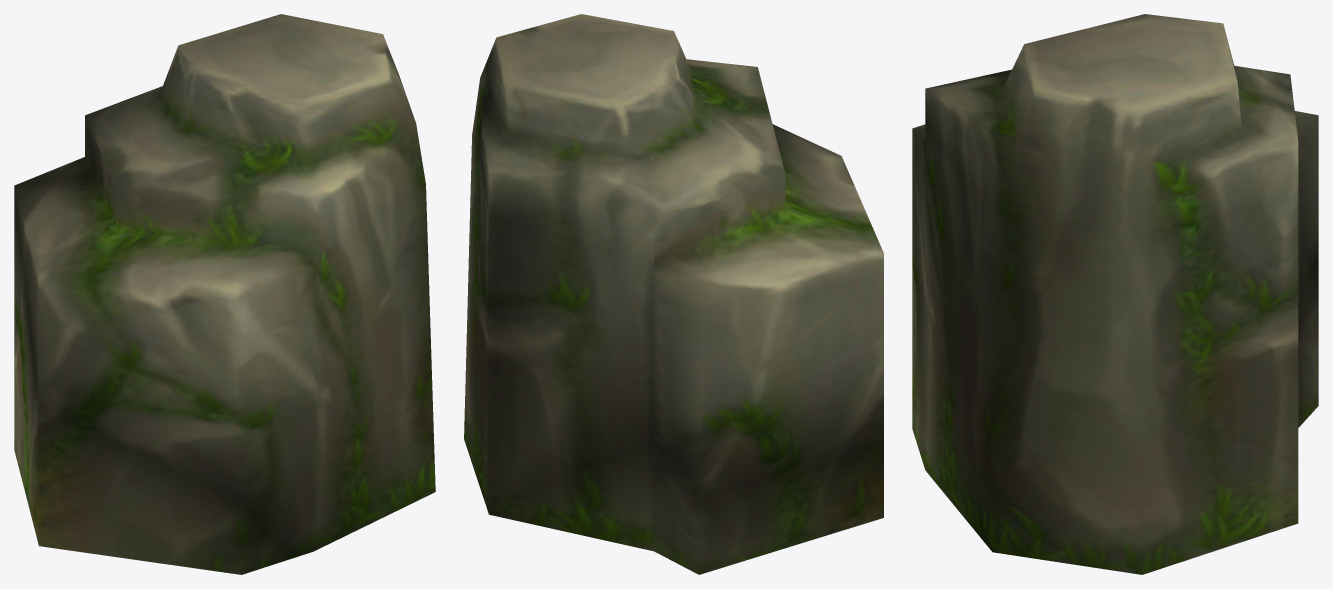
File: RockFormation_4_5 (35).fbx
The picture shows the model from 3 angles, left to right: view 1: azimuth 30°, elevation 25°; view 2: azimuth 150°, elevation 25°; view 3: azimuth 270°, elevation 25°; orthographic projection. The views are drawn at different scales.
Parts seen in each view (by area): view 1: RockFormation_4_5 (35); view 2: RockFormation_4_5 (35); view 3: RockFormation_4_5 (35).
Boxes of the visible parts, x1,y1,x2,y2 form: RockFormation_4_5 (35): (14, 14, 435, 574); RockFormation_4_5 (35): (464, 14, 883, 574); RockFormation_4_5 (35): (912, 14, 1318, 574).
Bounding box in the file's own units: 819 × 806 × 664.
